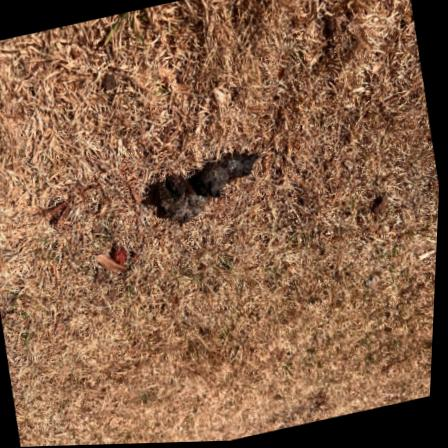dog-poop: (147, 144, 259, 233)
